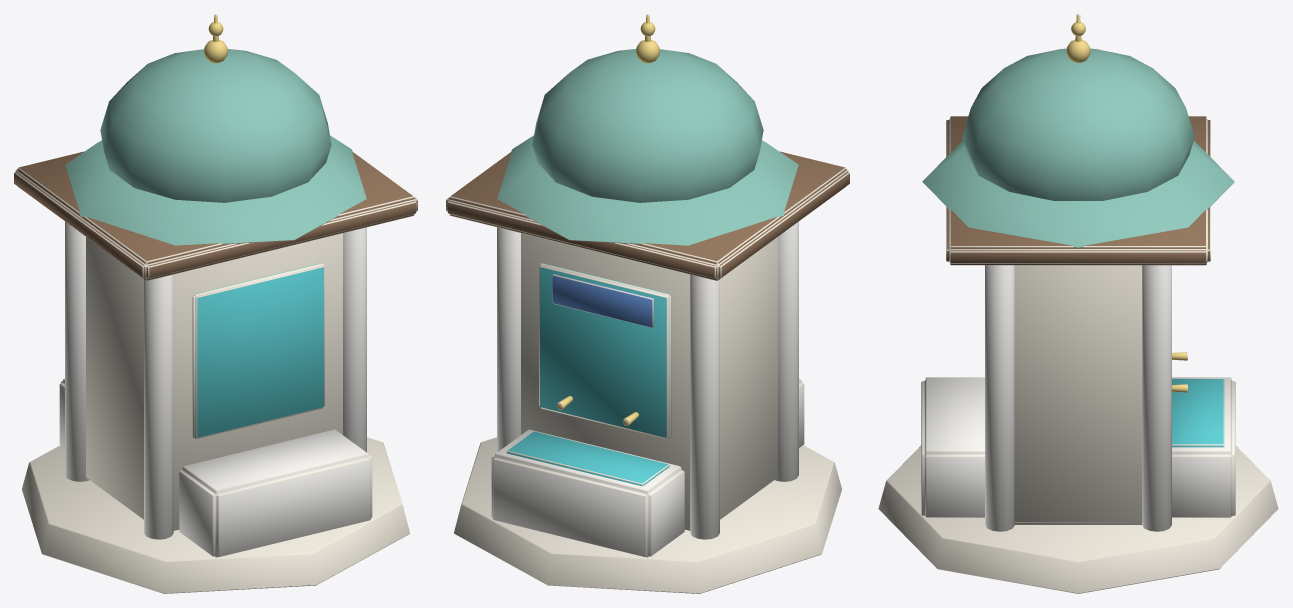
File: OW_IstanbulFountain.fbx
The picture shows the model from 3 angles, left to right: view 1: azimuth 30°, elevation 25°; view 2: azimuth 150°, elevation 25°; view 3: azimuth 270°, elevation 25°; orthographic projection.
Parts seen in each view (by area): view 1: OW_IstanbulFountain; view 2: OW_IstanbulFountain; view 3: OW_IstanbulFountain.
Part boxes in pixels (box(x1,y1,x2,y2)): OW_IstanbulFountain: box(14, 14, 417, 593); OW_IstanbulFountain: box(446, 14, 849, 593); OW_IstanbulFountain: box(878, 14, 1278, 593).
Bounding box in the file's own units: 296 × 404 × 296.
